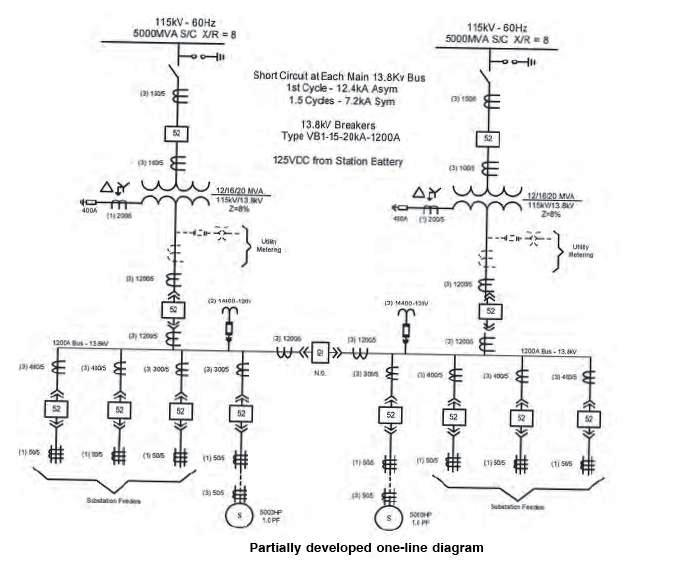ground: (211, 45, 232, 65), (521, 53, 544, 71)
switch: (154, 58, 197, 84), (471, 64, 500, 89)
transformer: (128, 168, 221, 222), (443, 178, 528, 223)
